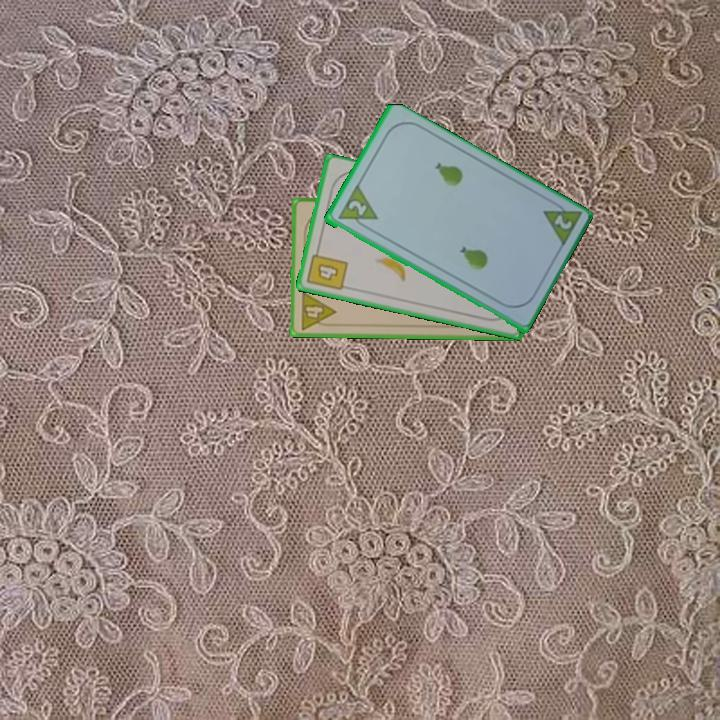2p: (334, 183, 380, 234), (550, 211, 575, 233)
4b: (303, 244, 351, 294)
4p: (297, 288, 338, 332)
